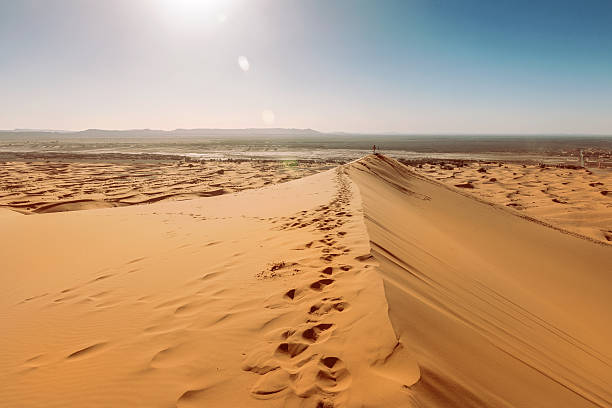human_foot_print: (243, 171, 352, 406)
